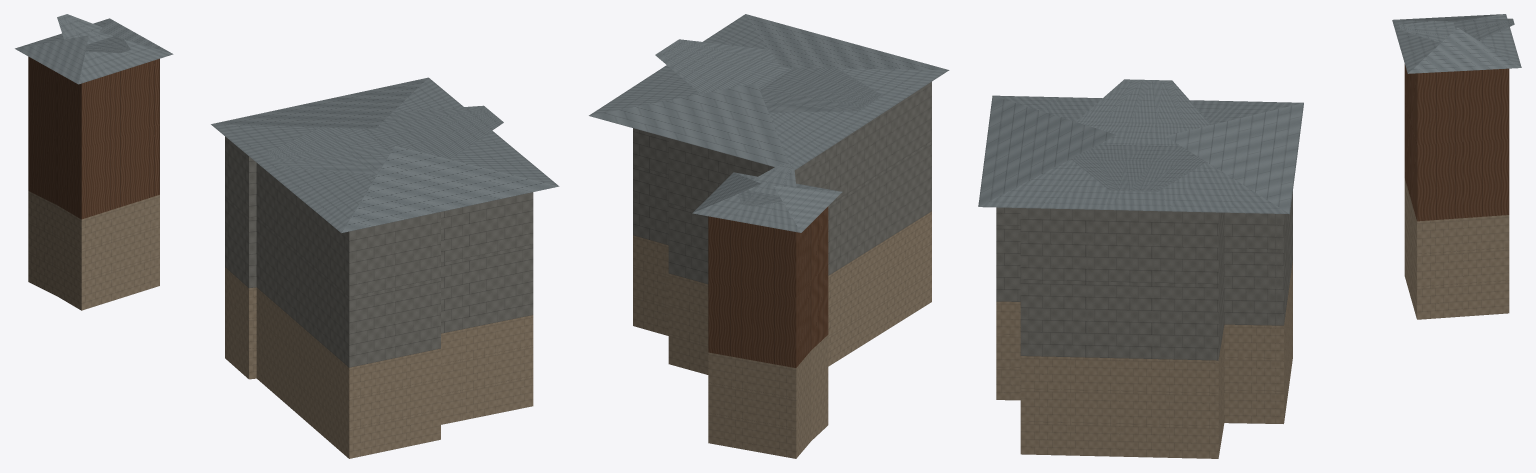
The model's file is bld_c-18_18_512.gltf.
The picture shows the model from 3 angles, left to right: view 1: azimuth 30°, elevation 25°; view 2: azimuth 150°, elevation 25°; view 3: azimuth 270°, elevation 25°; orthographic projection. The views are drawn at different scales.
Visible parts, largest first — view 1: bld_c-18_18_512; view 2: bld_c-18_18_512; view 3: bld_c-18_18_512.
Part boxes in pixels (x1,y1,x2,y2): bld_c-18_18_512: (15,14,559,458); bld_c-18_18_512: (589,14,949,458); bld_c-18_18_512: (978,14,1521,458).
Size of the model in its own units: 18.38 by 15.8 by 25.52.
4 materials, 4 textured.
